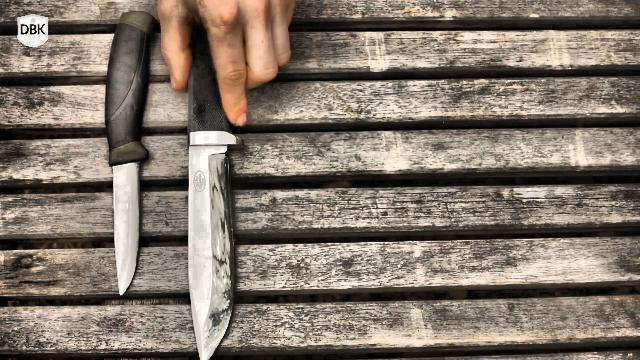knife: (167, 73, 281, 359), (97, 136, 157, 302)
